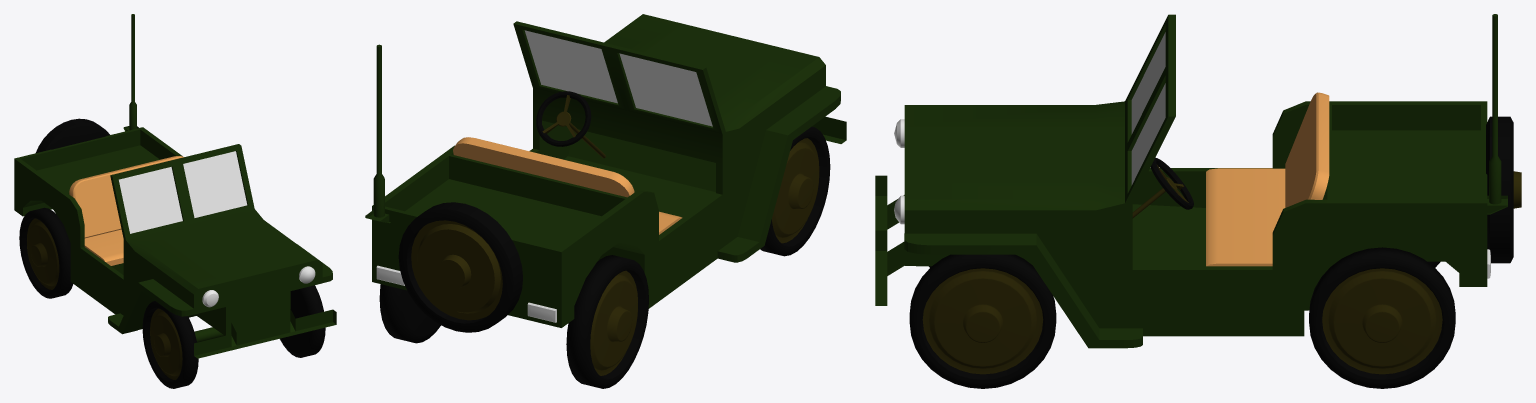
Rendered from Jeep_ (2).fbx.
The picture shows the model from 3 angles, left to right: view 1: azimuth 30°, elevation 25°; view 2: azimuth 150°, elevation 25°; view 3: azimuth 270°, elevation 25°; orthographic projection. The views are drawn at different scales.
Visible parts, largest first — view 1: Base, BackWheels, FrontWheel.R, FrontWheel.L; view 2: Base, BackWheels, FrontWheel.R, Steering Wheel; view 3: Base, BackWheels, FrontWheel.L, Steering Wheel.
Part boxes in pixels (bbox=[...]): Base: bbox=[14, 14, 336, 358]; BackWheels: bbox=[19, 207, 73, 298]; FrontWheel.R: bbox=[142, 301, 198, 388]; FrontWheel.L: bbox=[280, 285, 325, 357]; Base: bbox=[365, 14, 846, 332]; BackWheels: bbox=[379, 255, 648, 388]; FrontWheel.R: bbox=[760, 126, 830, 256]; Steering Wheel: bbox=[536, 91, 605, 158]; Base: bbox=[875, 14, 1521, 348]; BackWheels: bbox=[1309, 247, 1455, 388]; FrontWheel.L: bbox=[909, 254, 1056, 388]; Steering Wheel: bbox=[1132, 157, 1193, 218].
Bounding box in the file's own units: 405 × 548 × 881.
